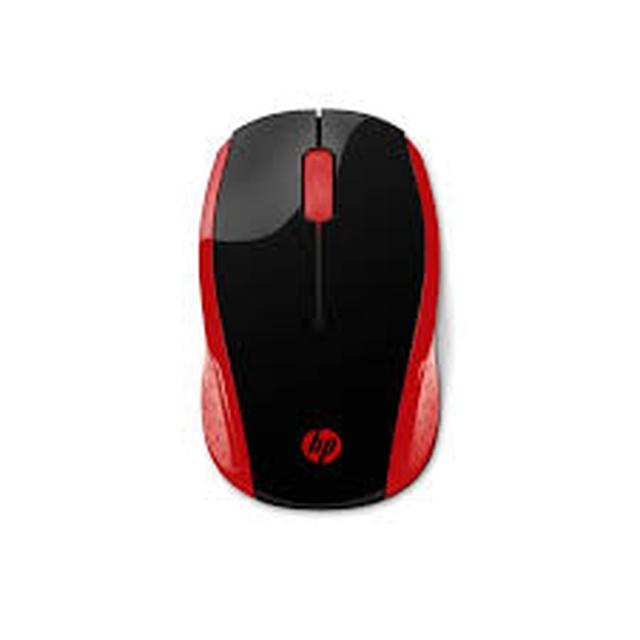mouse: (172, 70, 512, 519)
